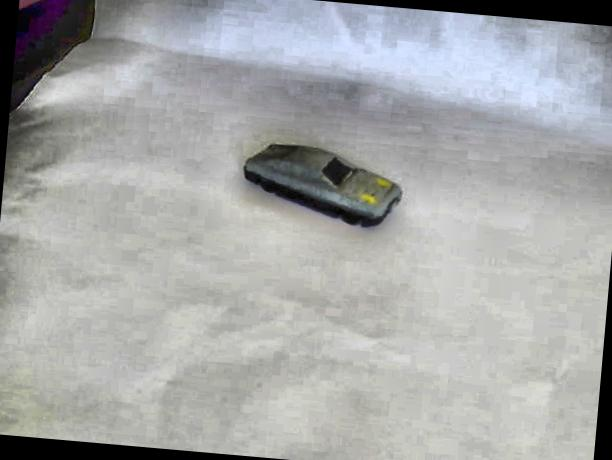normal_car: (230, 132, 409, 238)
